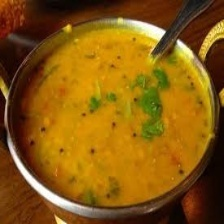dal: (9, 24, 217, 207)
